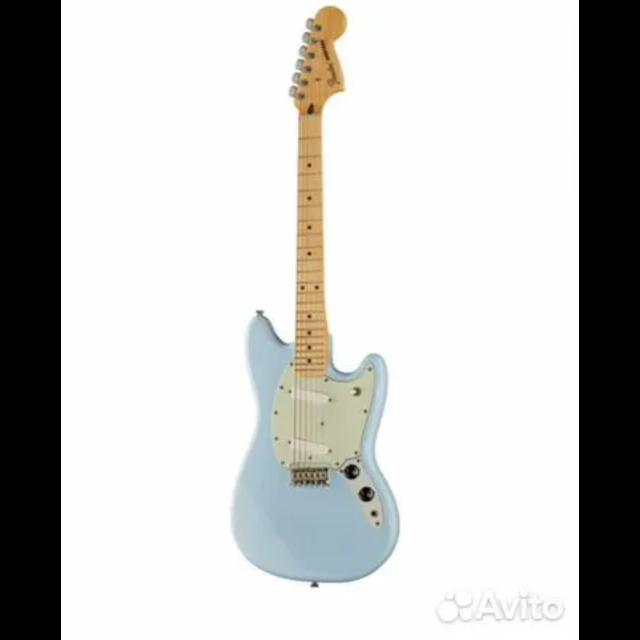Electric-Guitar: (232, 7, 398, 585)
